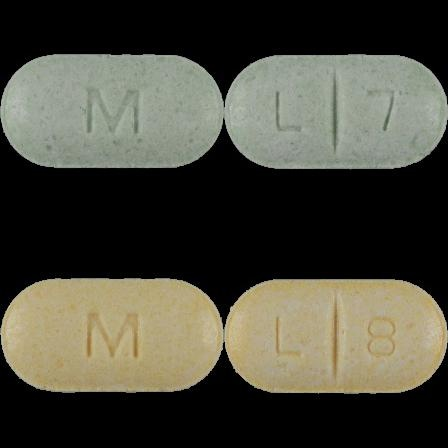0378-1807: (0, 0, 224, 224)
